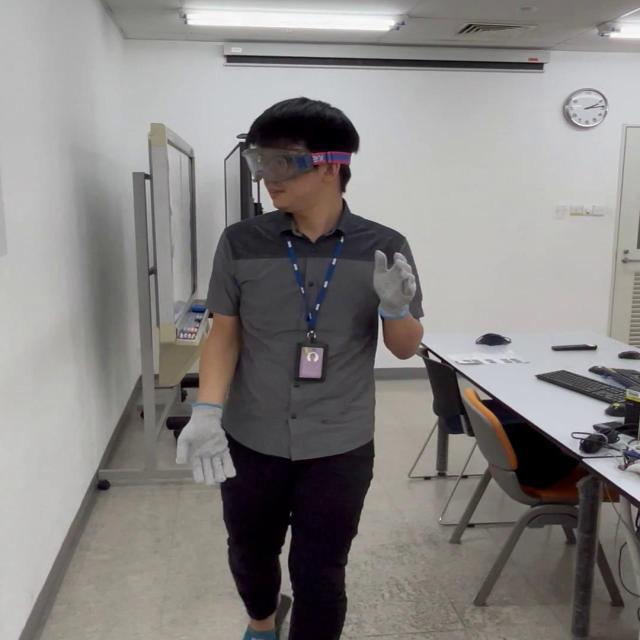gloved_hand: (173, 405, 239, 485), (366, 244, 419, 315)
